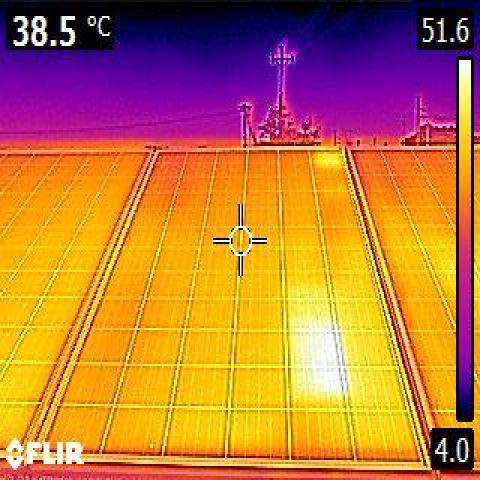fault: (293, 329, 337, 367), (294, 369, 342, 403)
